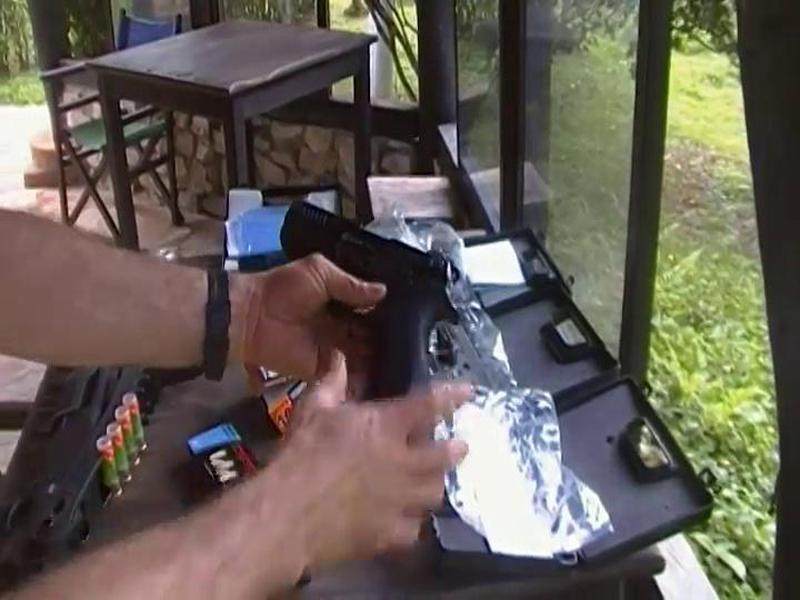Pistola: (268, 179, 469, 444)
